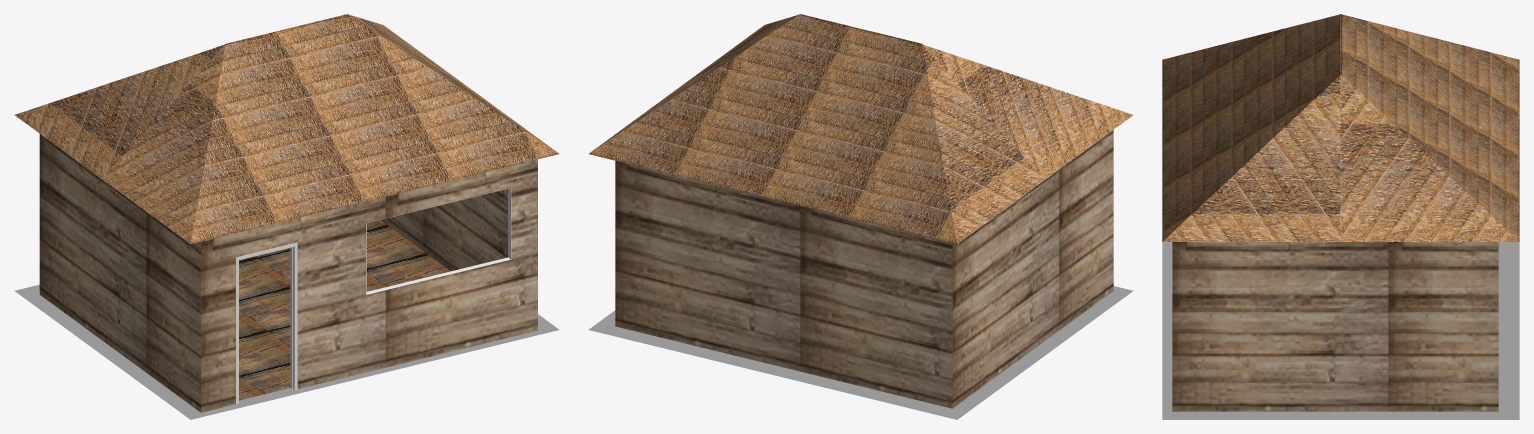
Rendered from chozaMadera.obj.
3 views of the same model, side by side, from view 1: azimuth 30°, elevation 25°; view 2: azimuth 150°, elevation 25°; view 3: azimuth 270°, elevation 25° (orthographic).
Visible parts, largest first — view 1: polySurface1; view 2: polySurface1; view 3: polySurface1.
Part boxes in pixels (left/top/right/bottom): polySurface1: left=14, top=14, right=559, bottom=419; polySurface1: left=588, top=14, right=1133, bottom=419; polySurface1: left=1162, top=14, right=1519, bottom=419.
Bounding box in the file's own units: 69.96 × 50.97 × 57.93.
